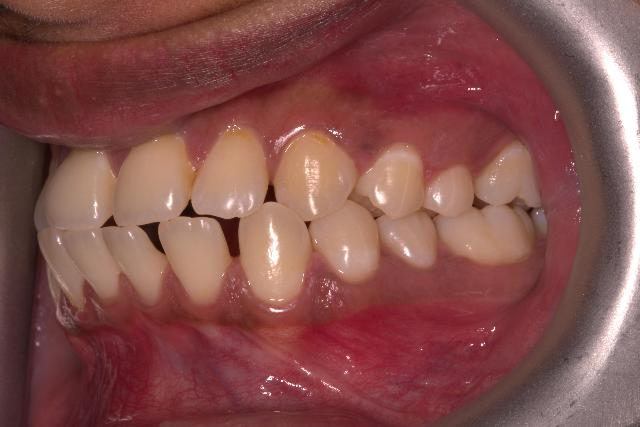canine class I: (238, 116, 382, 312)
molar class III 1/2: (432, 140, 542, 268)
